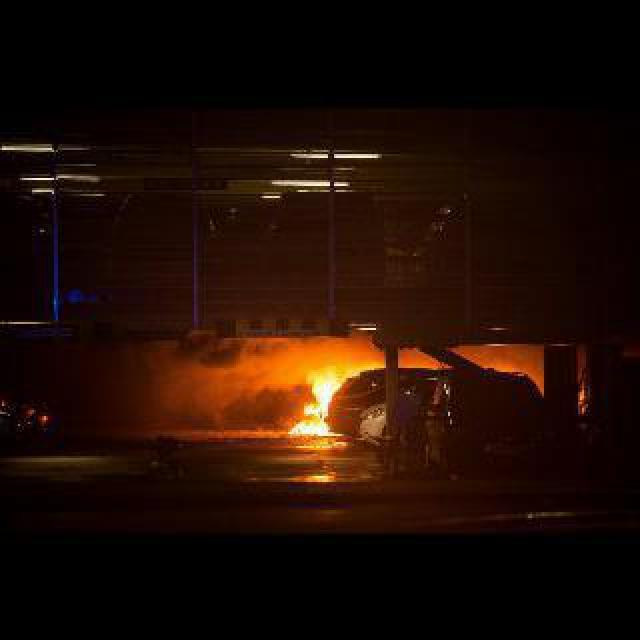smoke: (206, 378, 314, 426), (170, 328, 292, 368)
zfire: (290, 360, 338, 438), (40, 412, 48, 422)
